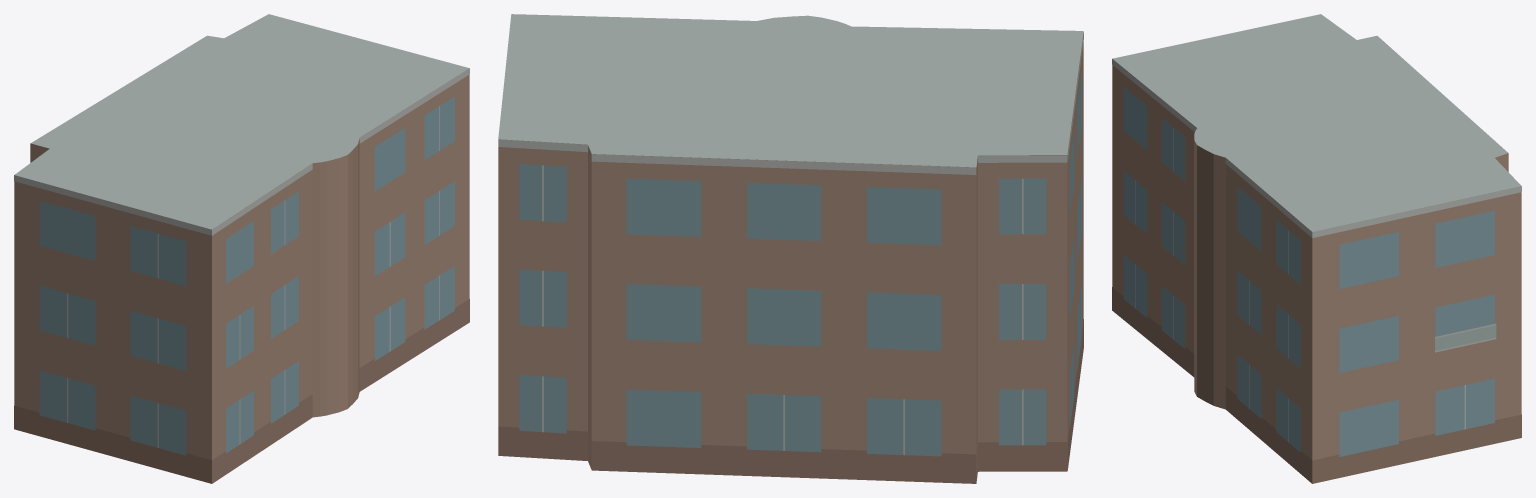
The model's file is survey-upis-32827777.glb.
The picture shows the model from 3 angles, left to right: view 1: azimuth 30°, elevation 25°; view 2: azimuth 150°, elevation 25°; view 3: azimuth 270°, elevation 25°; orthographic projection. The views are drawn at different scales.
Visible parts, largest first — view 1: survey-upis-32827777.tmp; view 2: survey-upis-32827777.tmp; view 3: survey-upis-32827777.tmp.
Boxes of the visible parts, <box> form: survey-upis-32827777.tmp: <box>14,14,469,483</box>; survey-upis-32827777.tmp: <box>498,14,1083,483</box>; survey-upis-32827777.tmp: <box>1112,14,1521,483</box>.
Size of the model in its own units: 18.77 by 10.1 by 14.9.
